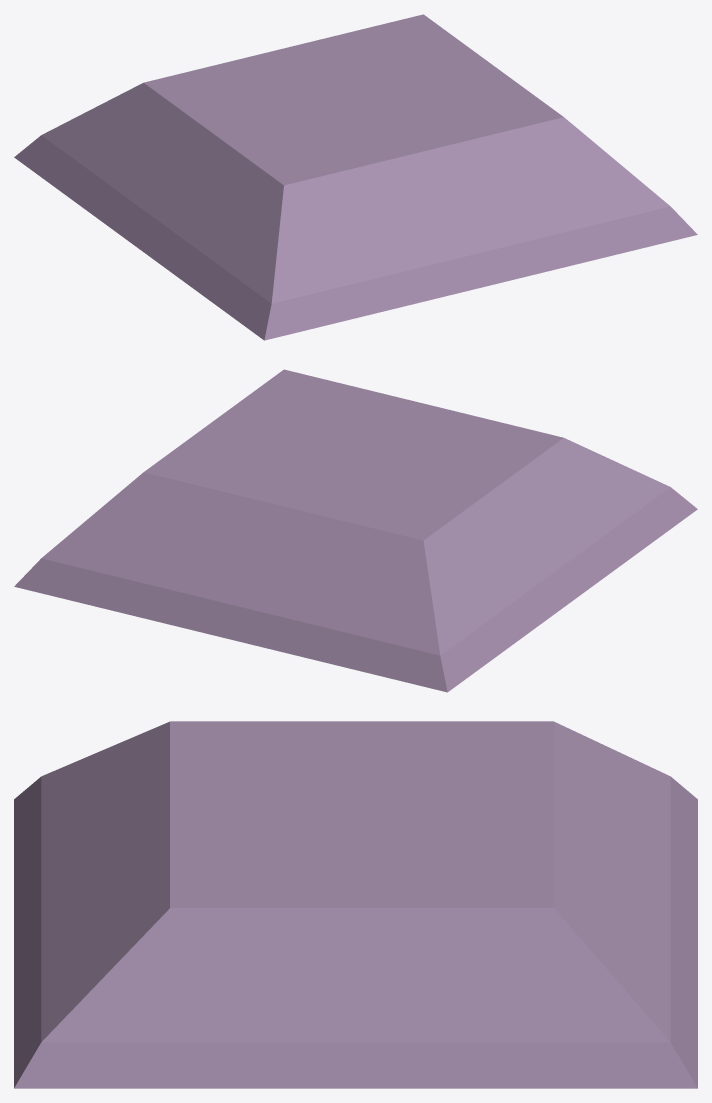
The model's file is roof_3.fbx.
3 renders of one model, top to bottom at view 1: azimuth 30°, elevation 25°; view 2: azimuth 150°, elevation 25°; view 3: azimuth 270°, elevation 25°, orthographic. The views are drawn at different scales.
Parts seen in each view (by area): view 1: roof3; view 2: roof3; view 3: roof3.
Part boxes in pixels (x1,y1,x2,y2): roof3: (14,14,697,340); roof3: (14,369,697,692); roof3: (14,721,697,1088).
Bounding box in the file's own units: 124 × 25.93 × 124.
